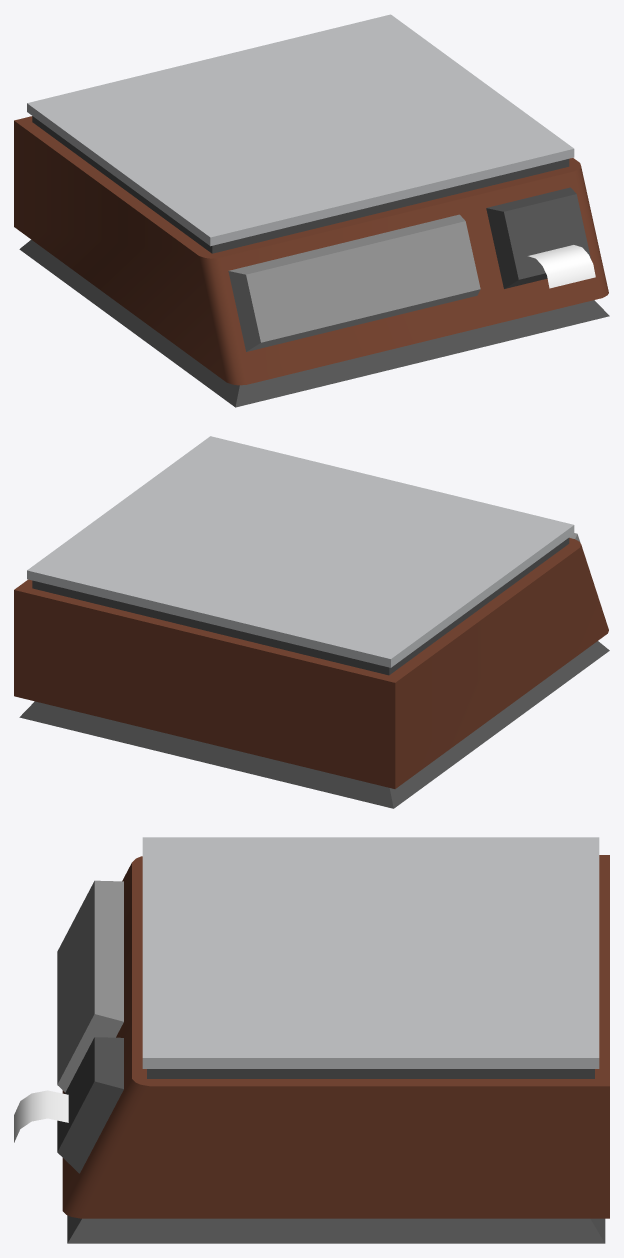
Rendered from Scale.FBX.
3 renders of one model, top to bottom at view 1: azimuth 30°, elevation 25°; view 2: azimuth 150°, elevation 25°; view 3: azimuth 270°, elevation 25°, orthographic. The views are drawn at different scales.
Parts seen in each view (by area): view 1: Box001; view 2: Box001; view 3: Box001.
Boxes of the visible parts, x1,y1,x2,y2 form: Box001: (14, 14, 609, 407); Box001: (14, 436, 609, 808); Box001: (14, 837, 609, 1243).
Size of the model in its own units: 10.96 by 4.03 by 11.94.
